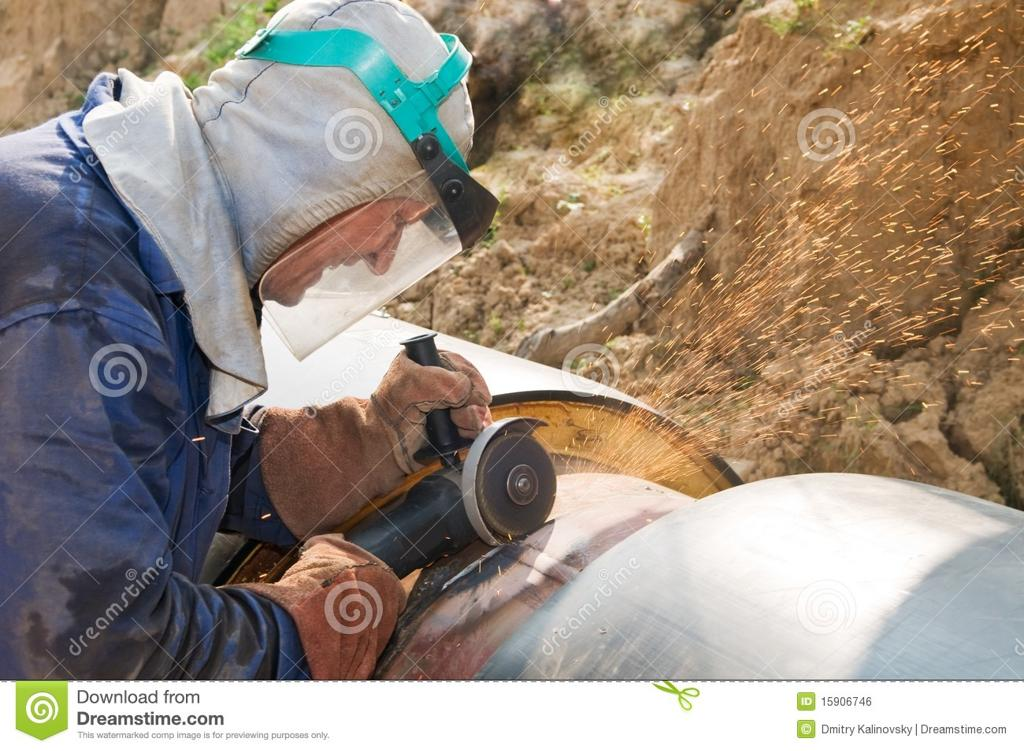face: (250, 150, 440, 304)
